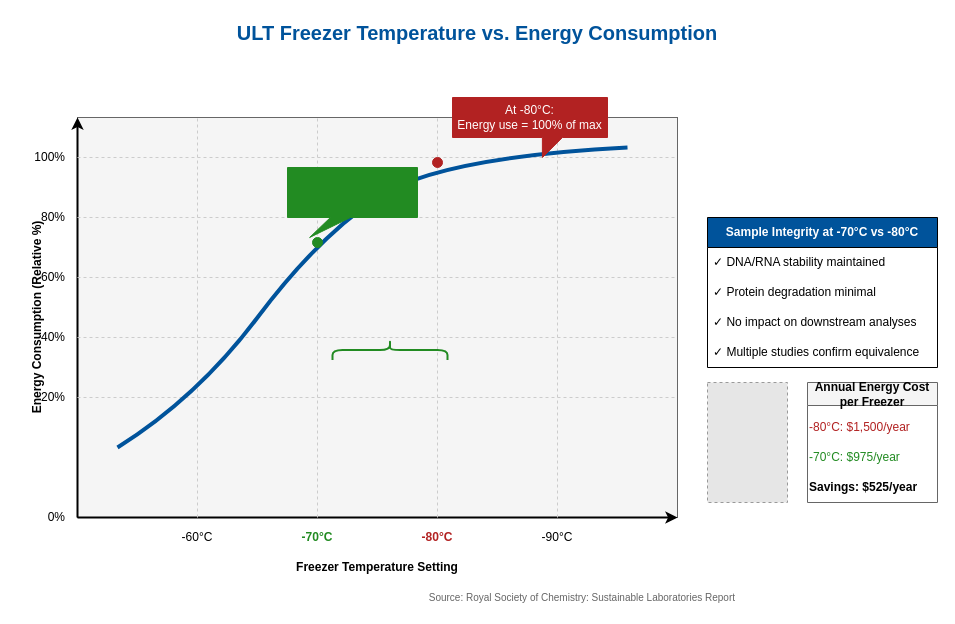
This 955x624 diagram has some shape labels left out. Grey dashed boxes stand in for pictures. Each missing label, with the centre of its shape:
35% Energy Savings: the point at 389,349
At -70°C: Energy use = 65% of max: the point at 352,202
